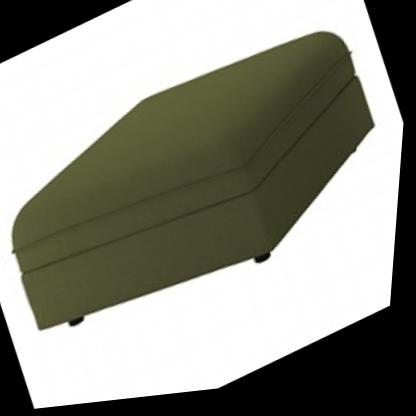Sofa: (0, 0, 415, 392)
